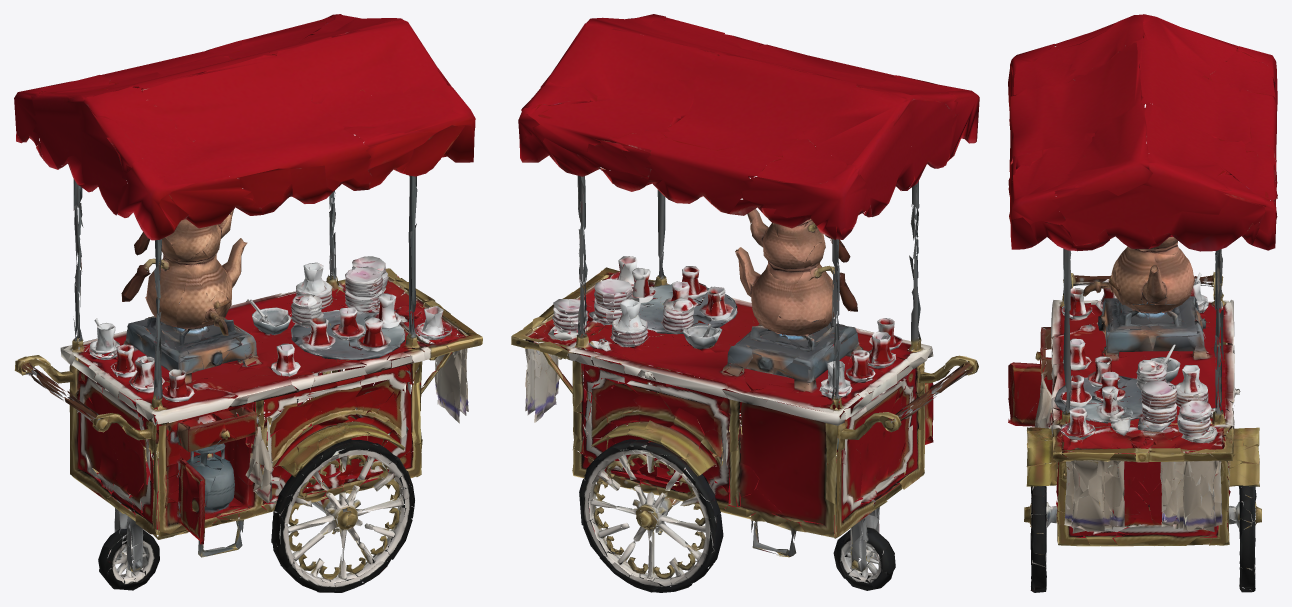
File: TeaCart.fbx
3 views of the same model, side by side, from view 1: azimuth 30°, elevation 25°; view 2: azimuth 150°, elevation 25°; view 3: azimuth 270°, elevation 25° (orthographic). The views are drawn at different scales.
Parts seen in each view (by area): view 1: TeaCart.014; view 2: TeaCart.014; view 3: TeaCart.014.
Part boxes in pixels (x1,y1,x2,y2): TeaCart.014: [14, 14, 482, 592]; TeaCart.014: [511, 14, 979, 592]; TeaCart.014: [1008, 14, 1277, 592].
Bounding box in the file's own units: 1.87 × 2.34 × 1.2.
Materials: 1 (1 with a texture image).
